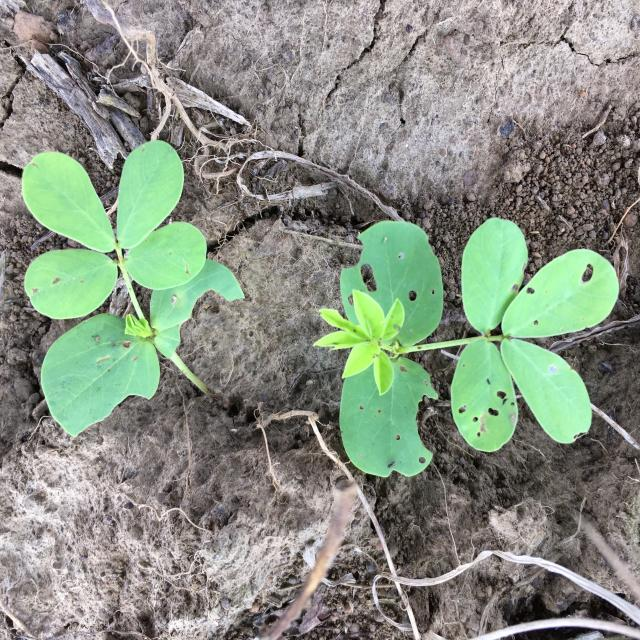Sicklepod: (313, 218, 619, 477), (22, 140, 245, 438)
